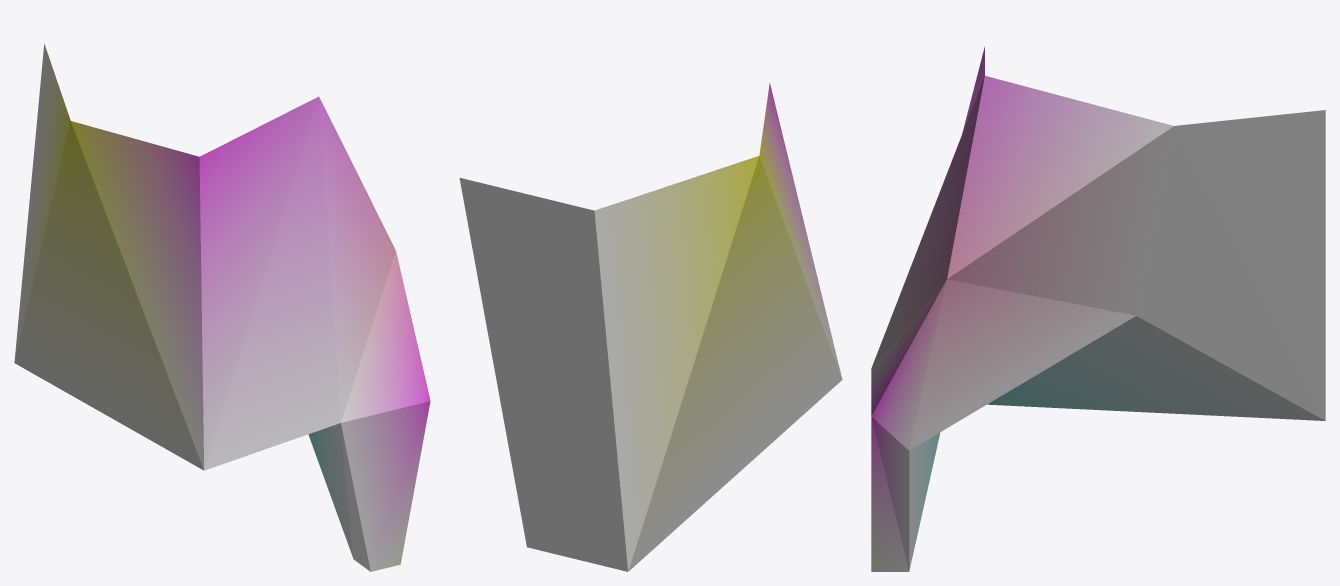
3 views of the same model, side by side, from view 1: azimuth 30°, elevation 25°; view 2: azimuth 150°, elevation 25°; view 3: azimuth 270°, elevation 25° (orthographic). The views are drawn at different scales.
Visible parts, largest first — view 1: model_1104; view 2: model_1104; view 3: model_1104.
Part boxes in pixels (x1,y1,x2,y2): model_1104: (14,44,430,571); model_1104: (459,82,842,571); model_1104: (871,46,1325,571).
Size of the model in its own units: 8 by 14 by 12.
